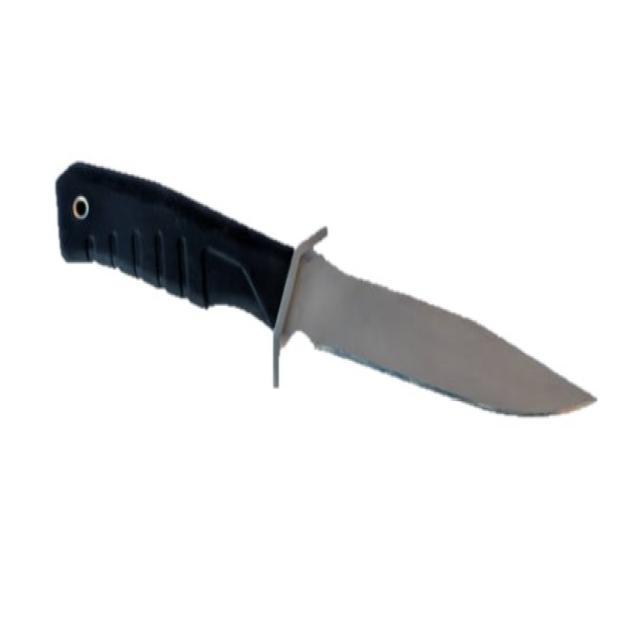knife: (51, 149, 603, 428)
